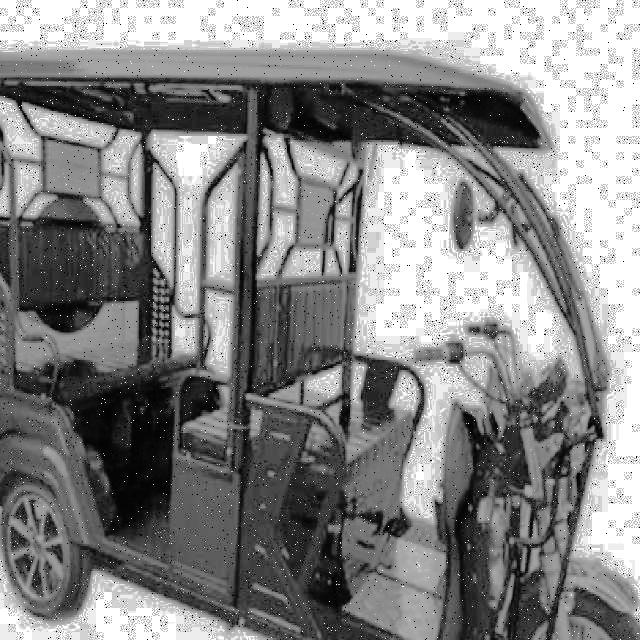Toto: (0, 33, 640, 639)
